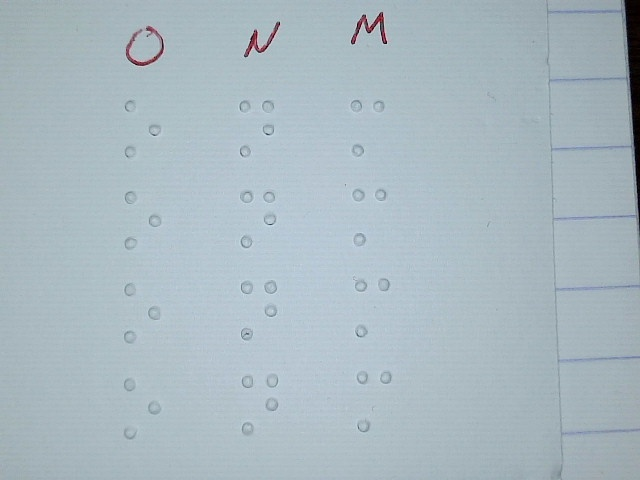M: (356, 368, 392, 432), (349, 95, 386, 157), (351, 186, 388, 248), (354, 275, 391, 337)
N: (237, 97, 277, 159), (238, 187, 278, 249), (239, 278, 279, 340), (240, 372, 280, 434)
O: (123, 98, 163, 160), (123, 188, 163, 250), (122, 281, 162, 343), (122, 377, 162, 439)
